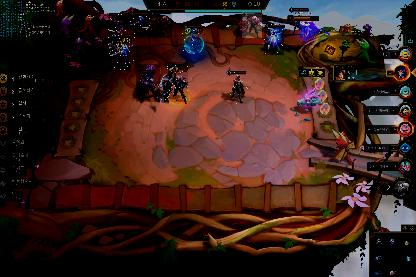1_braum: (150, 12, 172, 38), (242, 12, 262, 38)
1_pantheon: (136, 64, 160, 102)
1_varus: (182, 25, 206, 55), (108, 14, 128, 40)
1_yone: (130, 12, 150, 38)
2_braum: (164, 62, 188, 102)
2_rakan: (226, 70, 248, 104)
2_twitch: (102, 37, 120, 59)
2_xayah: (264, 23, 284, 55)
2_yone: (112, 32, 134, 70)
